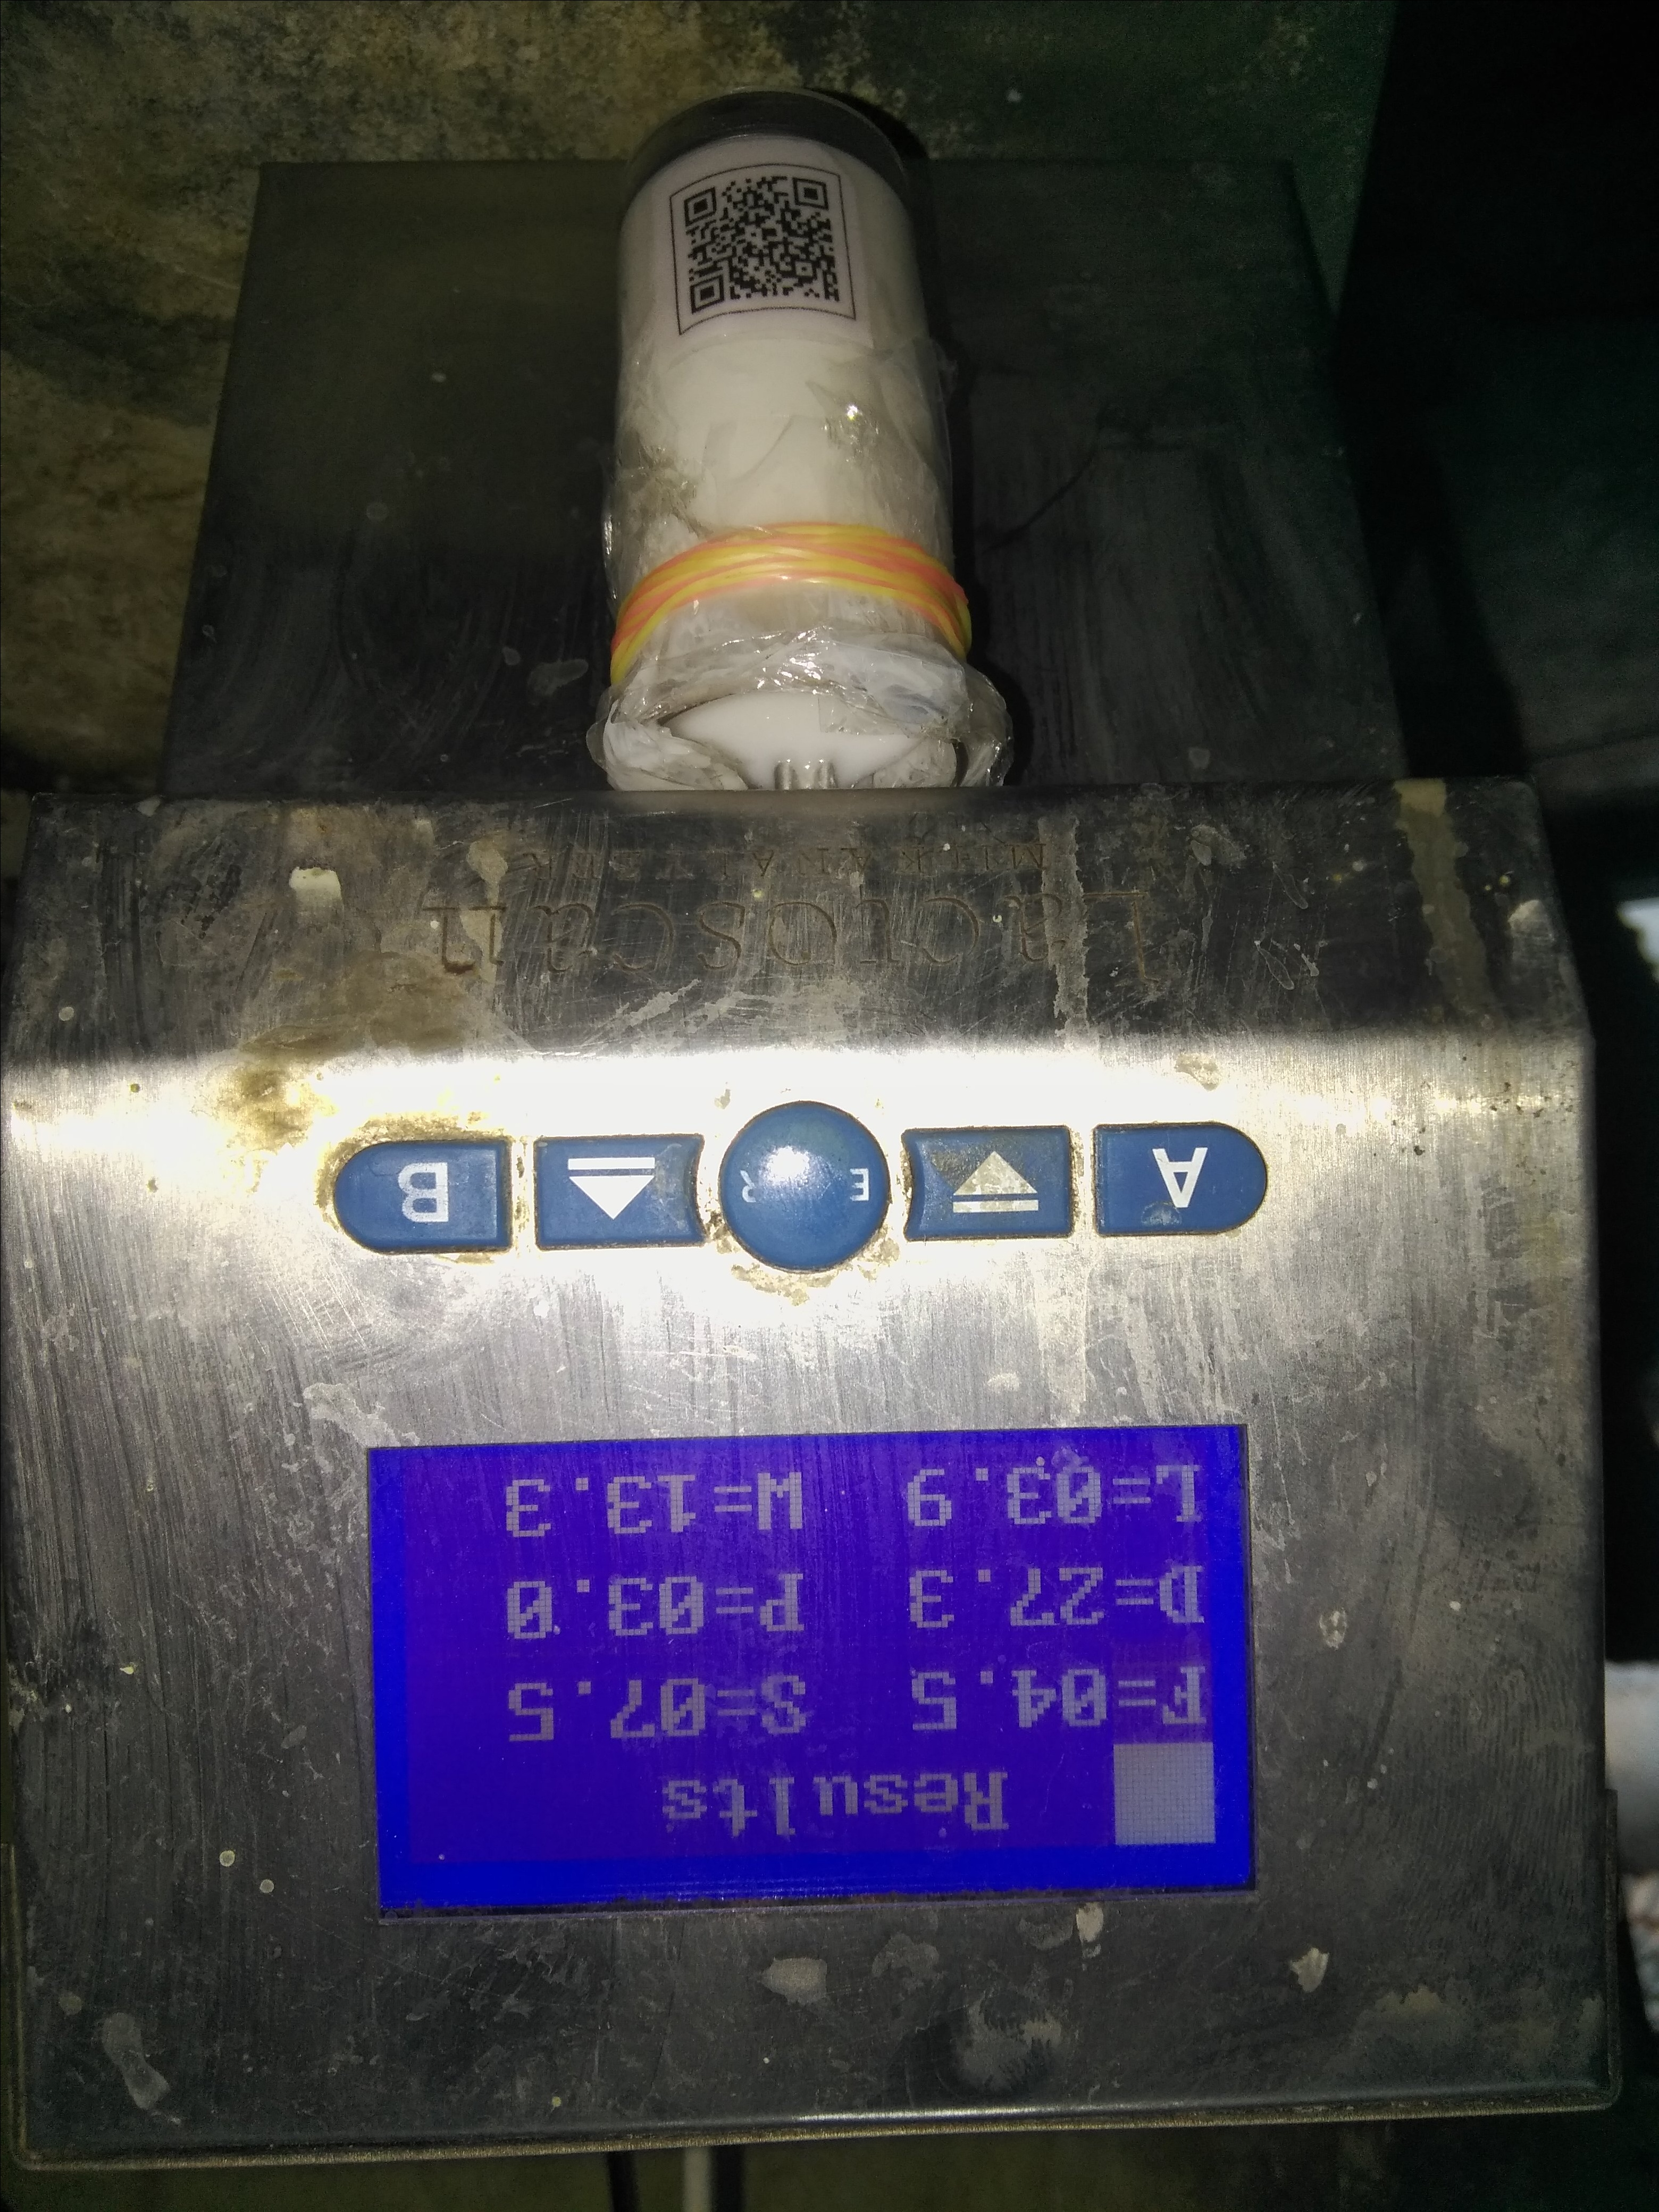lcd: (359, 1407, 1295, 1946)
qr: (657, 145, 877, 354)
